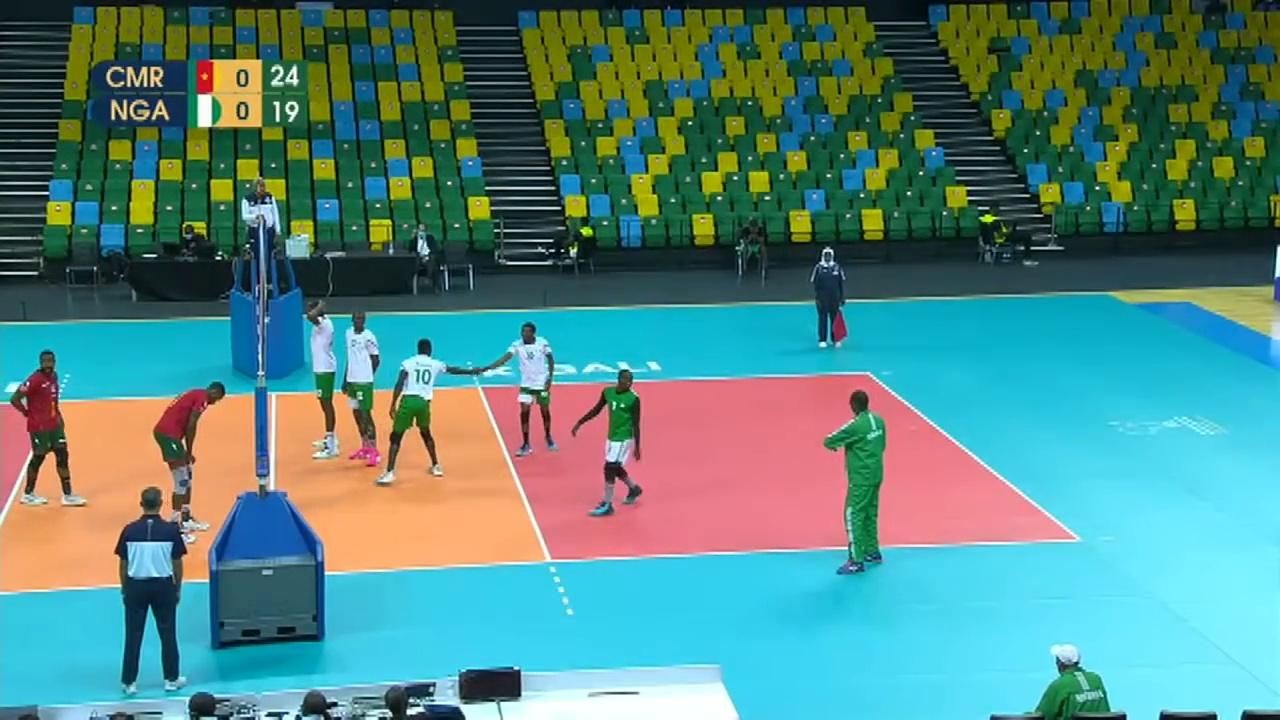player: (378, 340, 482, 481), (150, 380, 232, 529), (9, 354, 84, 503), (571, 368, 644, 514), (473, 326, 555, 452), (299, 292, 344, 461), (339, 304, 386, 464)
refree: (114, 486, 197, 694), (237, 175, 289, 288), (809, 246, 847, 348)
